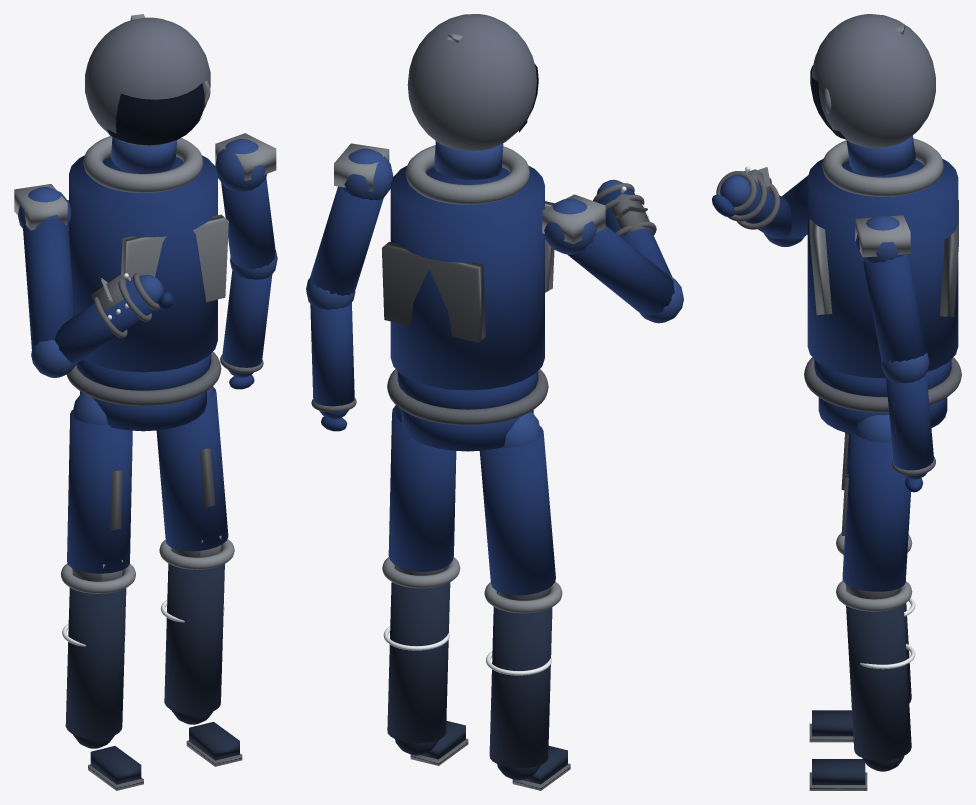
Rendered from space_suit_character.glb.
The picture shows the model from 3 angles, left to right: view 1: azimuth 30°, elevation 25°; view 2: azimuth 150°, elevation 25°; view 3: azimuth 270°, elevation 25°; orthographic projection. The views are drawn at different scales.
Visible parts, largest first — view 1: Torso_Upper, Helmet_Shell, Thigh_L, Boot_Shaft_R, Boot_Shaft_L, Thigh_R, UpperArm_L, Visor, ChestPlate_Front, Forearm_R, UpperArm_R, CollarRing (+19 smaller); view 2: Torso_Upper, Helmet_Shell, Thigh_L, Boot_Shaft_L, Boot_Shaft_R, Thigh_R, ChestPlate_Back, UpperArm_R, UpperArm_L, Forearm_R, CollarRing, Belt (+16 smaller); view 3: Torso_Upper, Helmet_Shell, Thigh_R, Boot_Shaft_R, UpperArm_R, Forearm_R, CollarRing, Belt, Neck, Torso_Lower, ChestPlate_Front, Pelvis (+13 smaller).
Part boxes in pixels (x1,y1,x2,y2): Torso_Upper: [69, 155, 217, 372]; Helmet_Shell: [85, 17, 210, 146]; Thigh_L: [67, 410, 132, 573]; Boot_Shaft_R: [164, 549, 224, 714]; Boot_Shaft_L: [65, 573, 126, 739]; Thigh_R: [156, 387, 228, 551]; UpperArm_L: [23, 218, 74, 349]; Visor: [107, 83, 204, 145]; ChestPlate_Front: [121, 214, 228, 302]; Forearm_R: [222, 270, 272, 367]; UpperArm_R: [221, 178, 275, 269]; CollarRing: [83, 136, 203, 193]; Torso_Upper: [390, 165, 544, 390]; Helmet_Shell: [407, 14, 536, 150]; Thigh_L: [479, 426, 555, 595]; Boot_Shaft_L: [489, 591, 552, 768]; Boot_Shaft_R: [387, 566, 450, 743]; Thigh_R: [388, 406, 456, 571]; ChestPlate_Back: [382, 242, 485, 342]; UpperArm_R: [310, 186, 383, 295]; UpperArm_L: [567, 225, 674, 316]; Forearm_R: [310, 303, 354, 406]; CollarRing: [405, 145, 529, 204]; Belt: [387, 369, 548, 425]; Torso_Upper: [807, 158, 958, 378]; Helmet_Shell: [812, 14, 935, 147]; Thigh_R: [842, 432, 910, 591]; Boot_Shaft_R: [846, 590, 911, 760]; UpperArm_R: [863, 254, 926, 363]; Forearm_R: [886, 373, 933, 470]; CollarRing: [822, 138, 943, 196]; Belt: [804, 357, 961, 412]; Neck: [846, 135, 915, 175]; Torso_Lower: [814, 359, 951, 396]; ChestPlate_Front: [809, 218, 832, 314]; Pelvis: [818, 397, 947, 434].
Size of what is drawn, in the model's own units: 0.79 by 1.84 by 0.5634.
